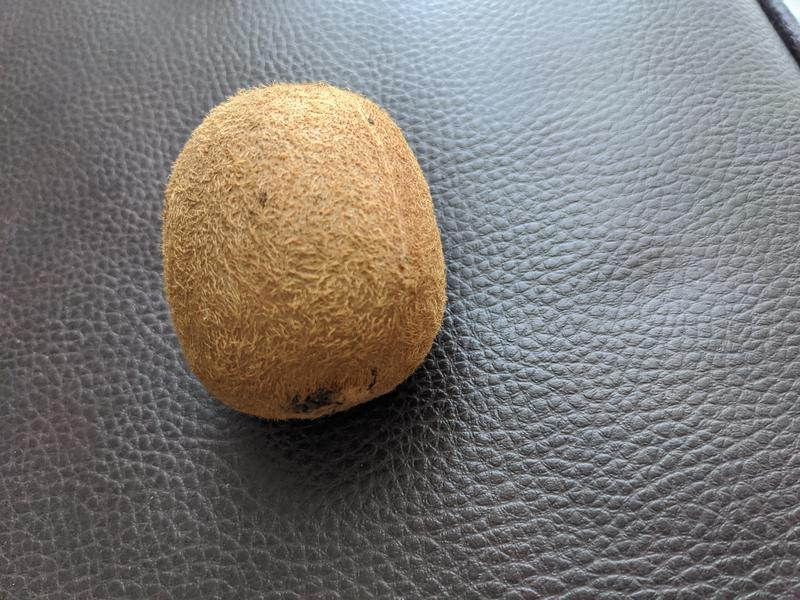kiwi: (162, 82, 448, 421)
